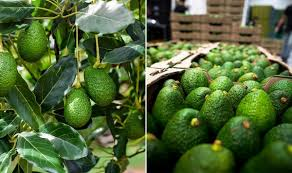aguacate: (81, 64, 120, 111), (236, 87, 273, 131), (200, 87, 236, 129), (16, 20, 49, 65), (63, 88, 94, 130), (153, 84, 186, 122)
